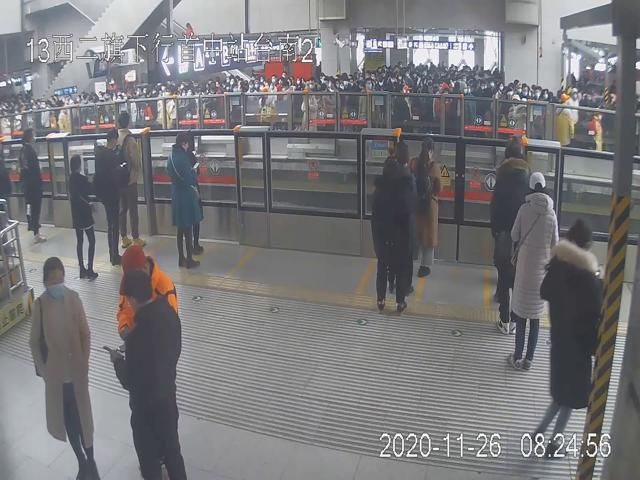person: (108, 270, 184, 480), (31, 258, 102, 480), (509, 170, 559, 369), (167, 131, 203, 270), (93, 124, 123, 267), (410, 137, 439, 278), (67, 154, 99, 281), (115, 113, 145, 248), (19, 128, 45, 244)
